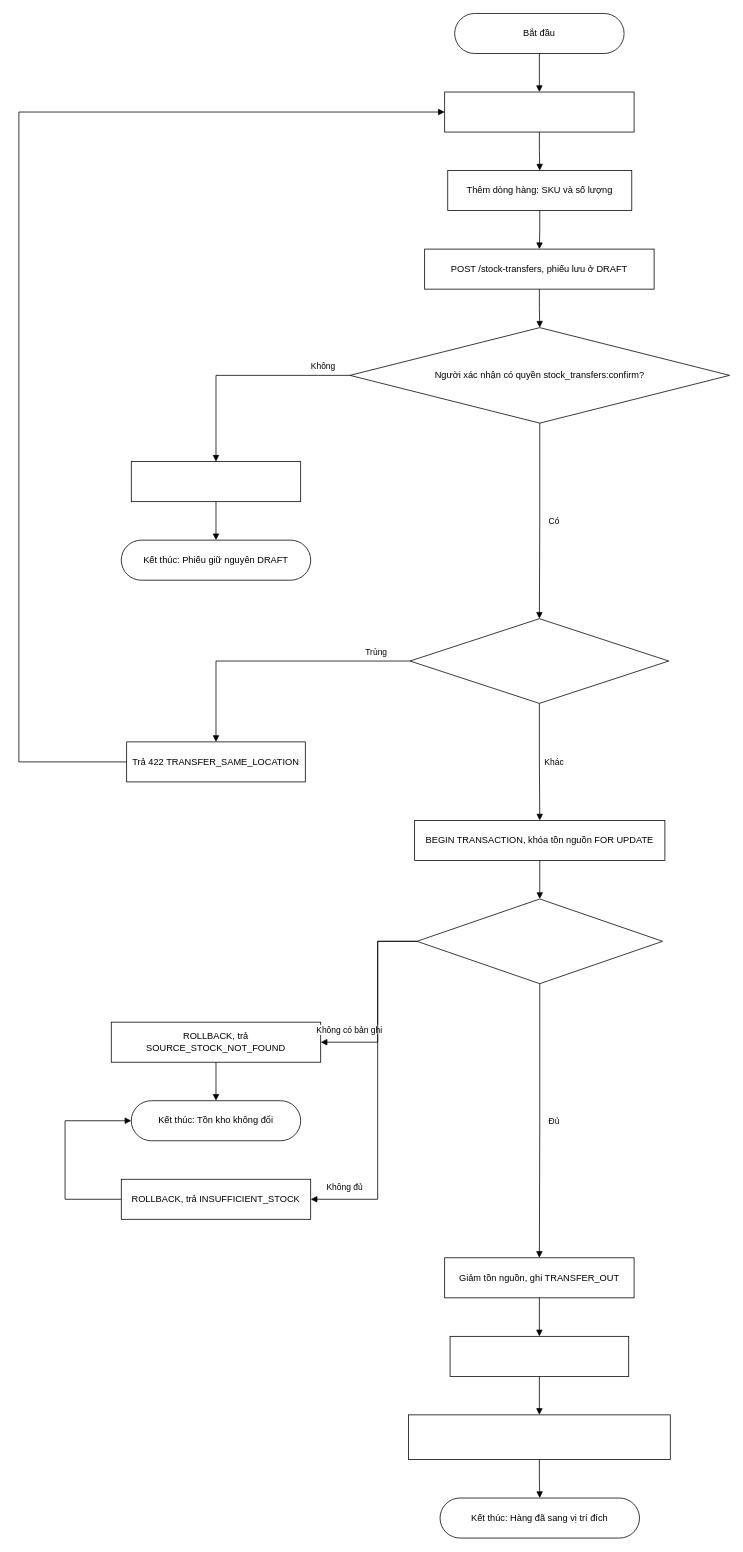
The diagram is 743 pixels wide and 1552 high, and some of its shapes have lost their labels. Here are the shapes that lost their labels. From the top down, the centre of each, then its label:
At point (539, 111): "Chọn vị trí nguồn và vị trí đích".
At point (216, 481): "Trả 403 FORBIDDEN".
At point (539, 660): "Vị trí nguồn khác vị trí đích?".
At point (539, 941): "Tồn khả dụng tại nguồn đủ?".
At point (539, 1356): "Tăng tồn đích, ghi TRANSFER_IN".
At point (539, 1437): "Đổi trạng thái CONFIRMED, ghi audit_logs, COMMIT".
